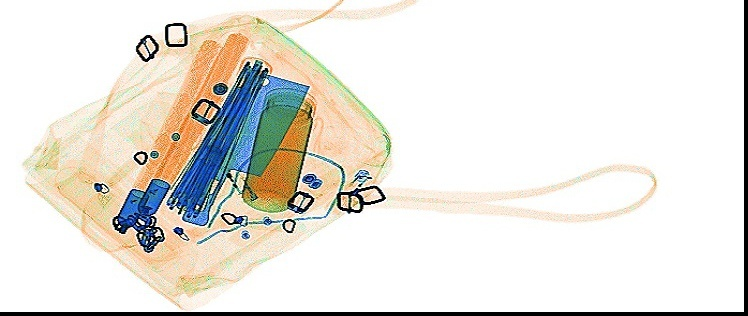knife: (177, 68, 309, 226)
lighter: (204, 141, 260, 205), (334, 166, 371, 212)
